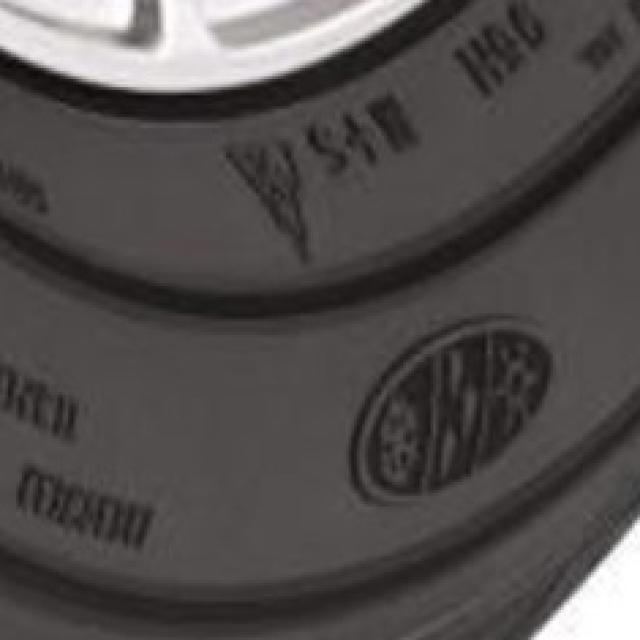Non-defective: (0, 127, 640, 505)
